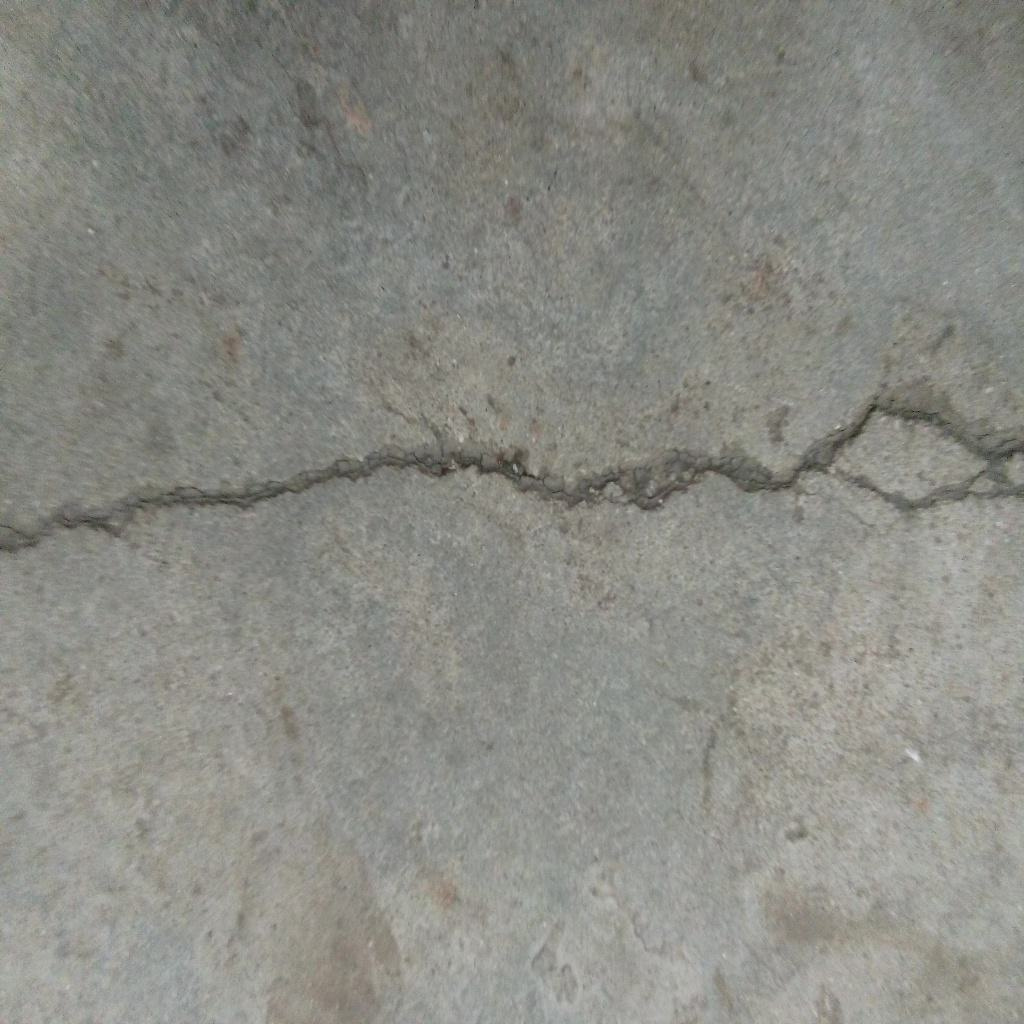Crack: (1, 443, 780, 554)
Spalling: (780, 400, 1024, 516)
